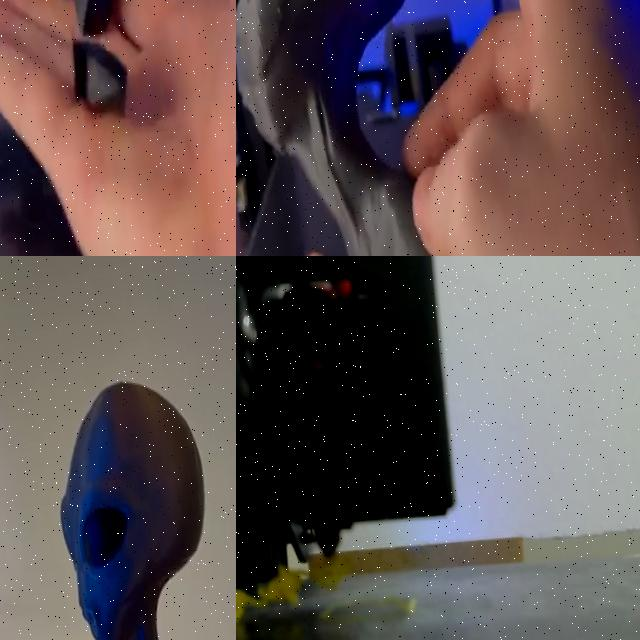spaghetti: (236, 566, 303, 622), (309, 557, 349, 588)
